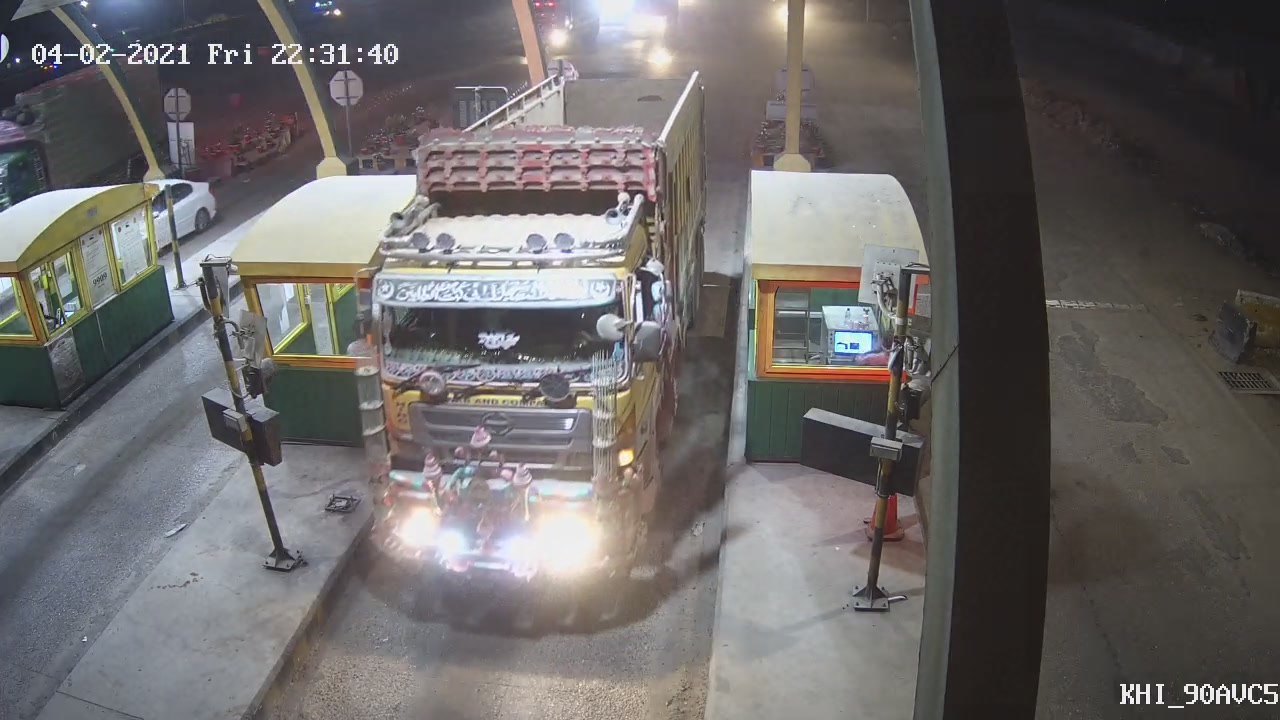F5: (355, 123, 701, 595)
